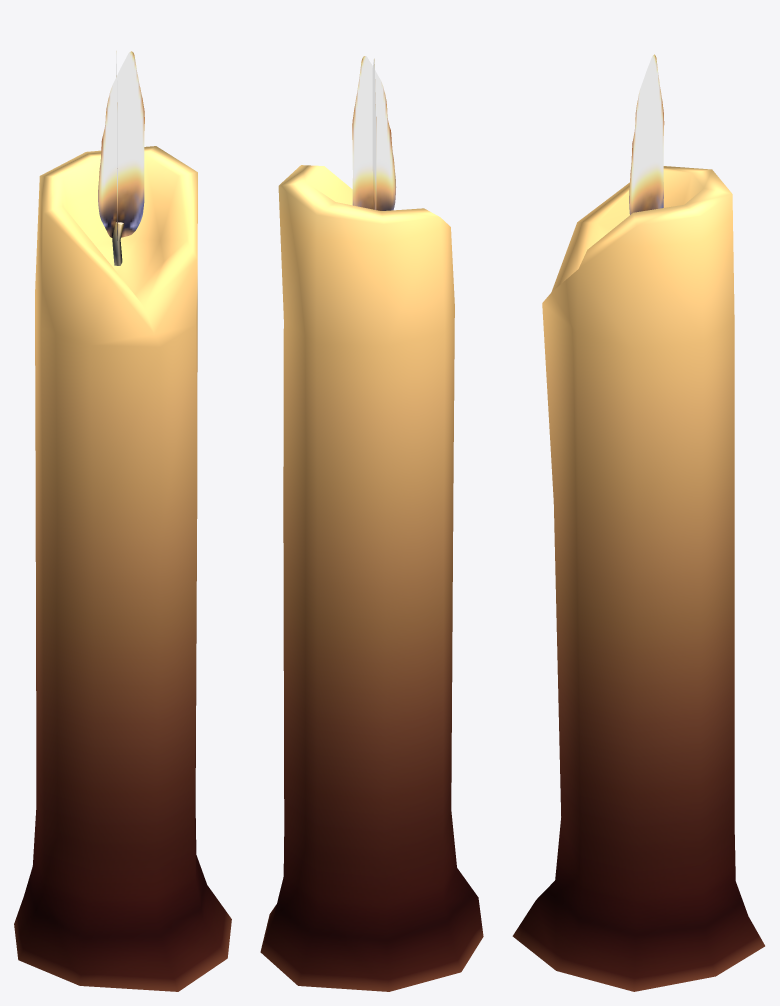
File: CandleShapeA.030.glb
3 renders of one model, left to right at view 1: azimuth 30°, elevation 25°; view 2: azimuth 150°, elevation 25°; view 3: azimuth 270°, elevation 25°, orthographic.
Parts seen in each view (by area): view 1: CandleShapeA.030; view 2: CandleShapeA.030; view 3: CandleShapeA.030.
Part boxes in pixels (left/top/right/bottom): CandleShapeA.030: left=14, top=51, right=231, bottom=991; CandleShapeA.030: left=260, top=56, right=483, bottom=991; CandleShapeA.030: left=512, top=54, right=764, bottom=991.
Size of the model in its own units: 0.0814 by 0.3472 by 0.0887.
2 materials, 2 textured.
